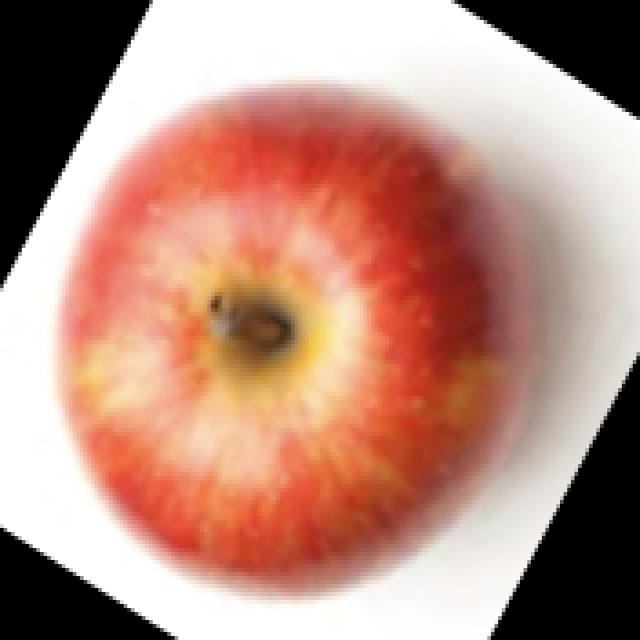Fresh Apple: (75, 73, 548, 555)
